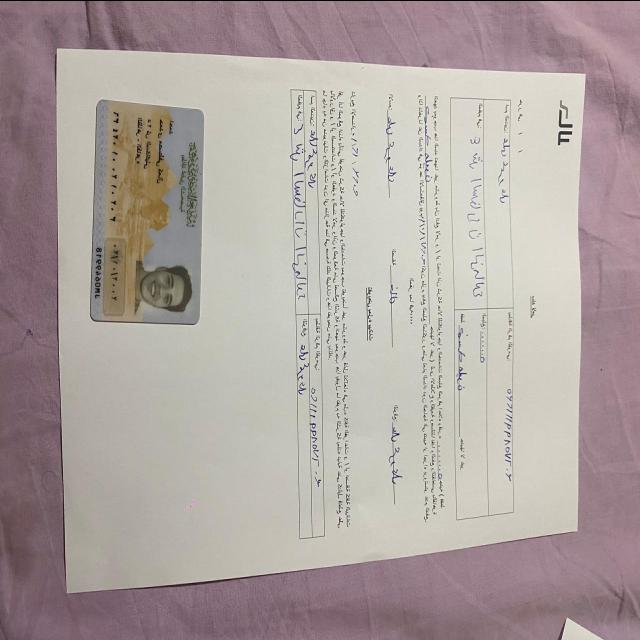ID-cards: (87, 92, 208, 329)
